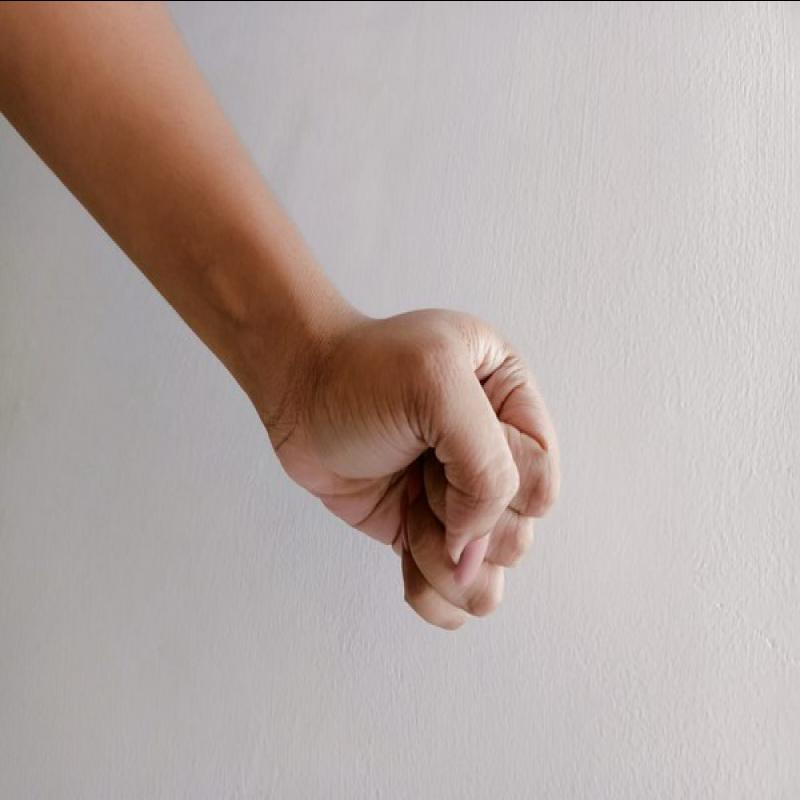Mushti: (285, 278, 586, 655)
